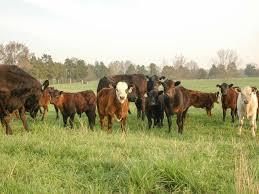cow: (0, 66, 48, 135), (49, 88, 102, 129), (95, 81, 133, 134), (161, 79, 189, 135), (235, 86, 259, 138), (183, 89, 221, 116), (217, 82, 237, 123), (145, 89, 163, 128)
